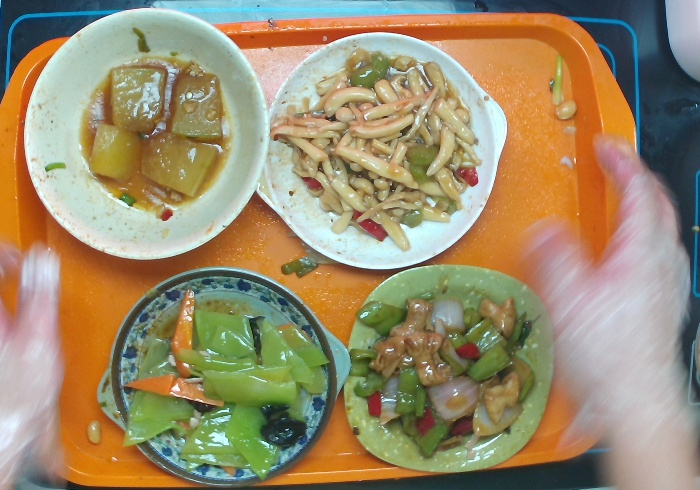NLDX-Bai_Se_Shuang_Er_Die: (261, 31, 497, 276)
NLDX-Bai_Se_Yuan_Wan: (16, 13, 268, 263)
NLDX-Lv_Hua_Fang_Die: (340, 262, 556, 480)
NLDX-Qing_Hua_Shuang_Er_Die: (90, 273, 354, 480)
